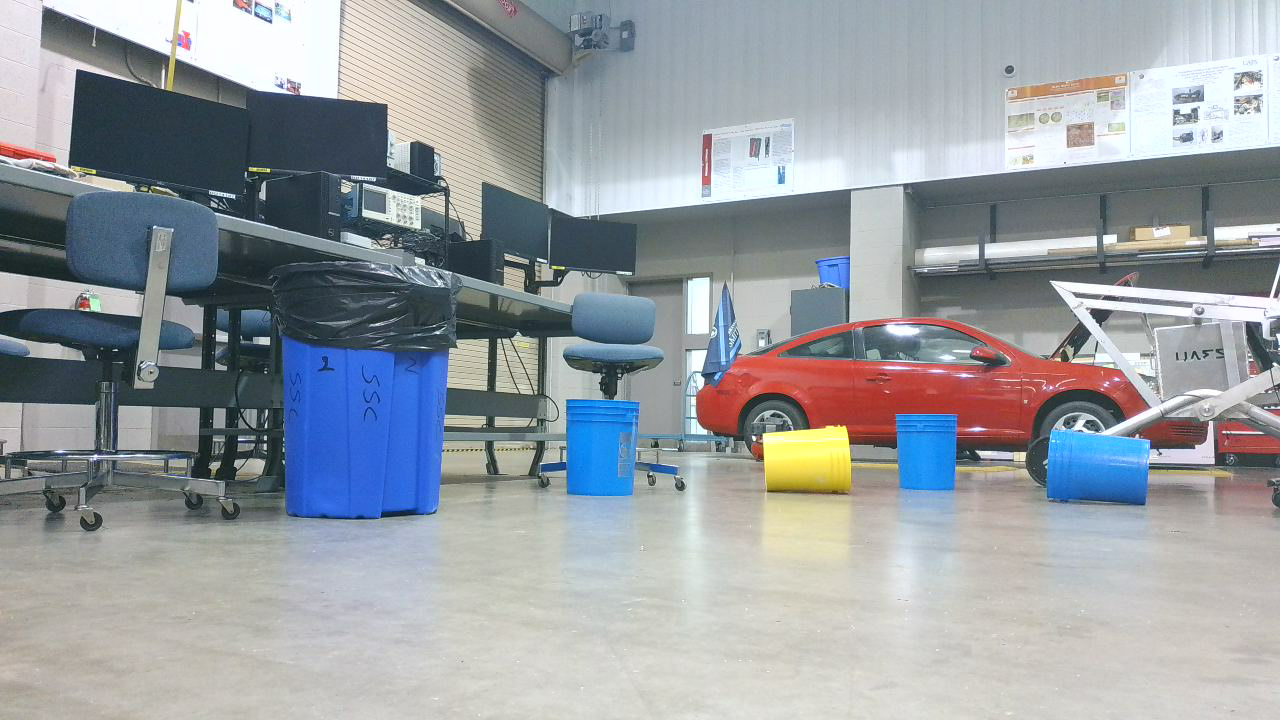blue_bucket: (1047, 431, 1158, 513), (564, 401, 647, 504), (896, 415, 968, 499)
yellow_bucket: (764, 426, 860, 505)
